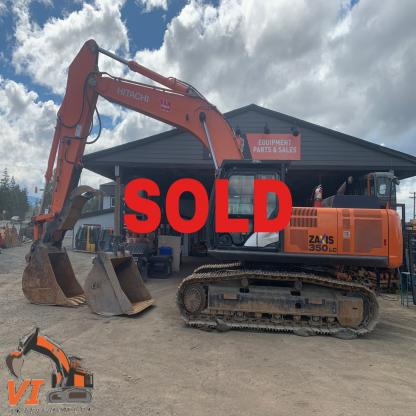excavator: (24, 30, 406, 351)
